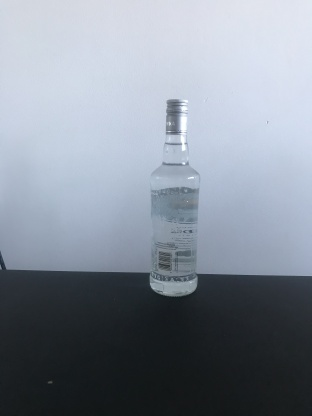nakretka: (164, 94, 189, 136)
